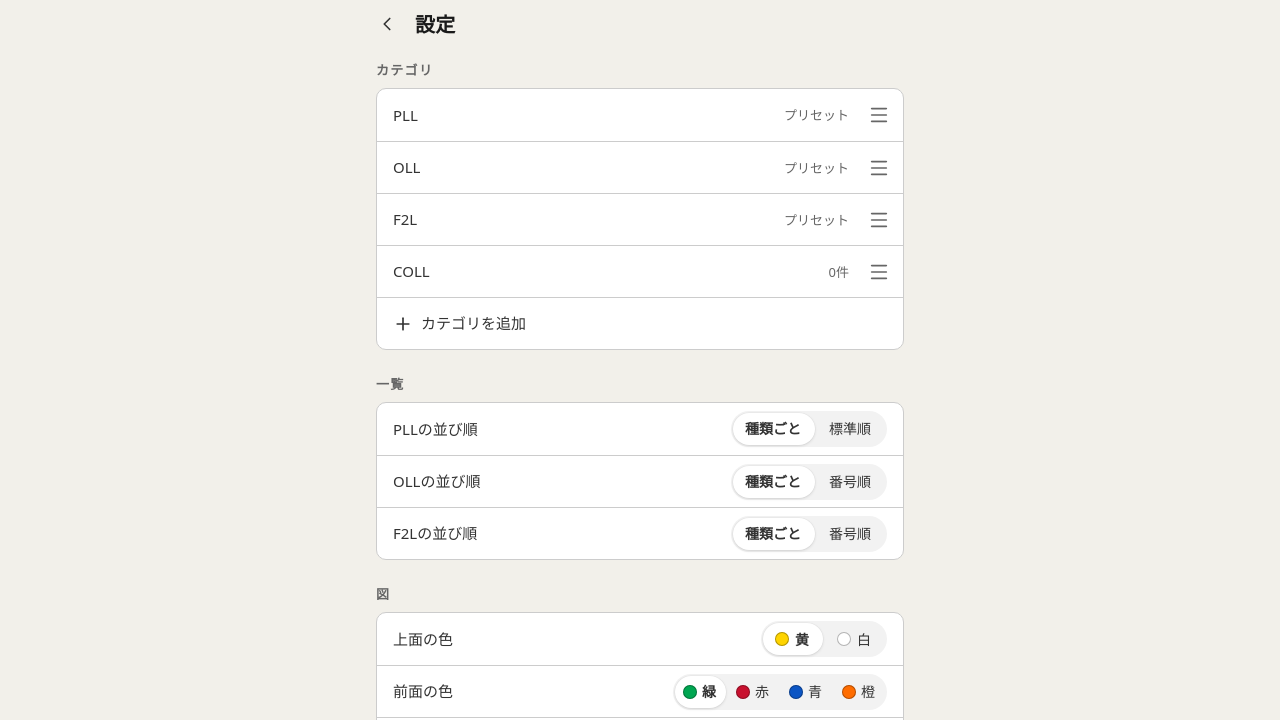
Test case: SettingsScreen › 自作のカテゴリの行を押すとシートが開き、名前を変えて保存できる
The image size is (1280, 720).
Click the button "COLL 0件" at (411, 271), box [393, 246, 849, 297]
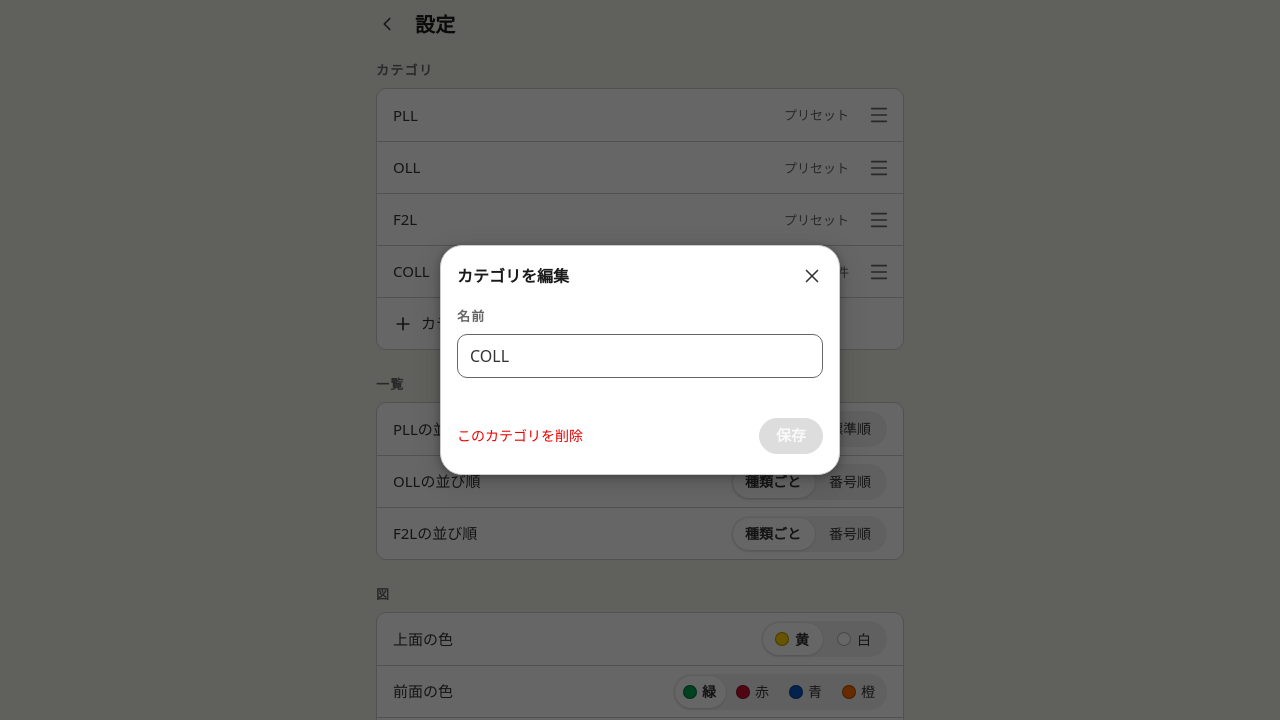
Expected: the field labelled "名前" holds "COLL"
Expected: the button "保存" is disabled, [759, 418, 823, 454]
Replace the text in the field labelled "名前" with "ZBLL" at (640, 356), box [457, 334, 823, 378]
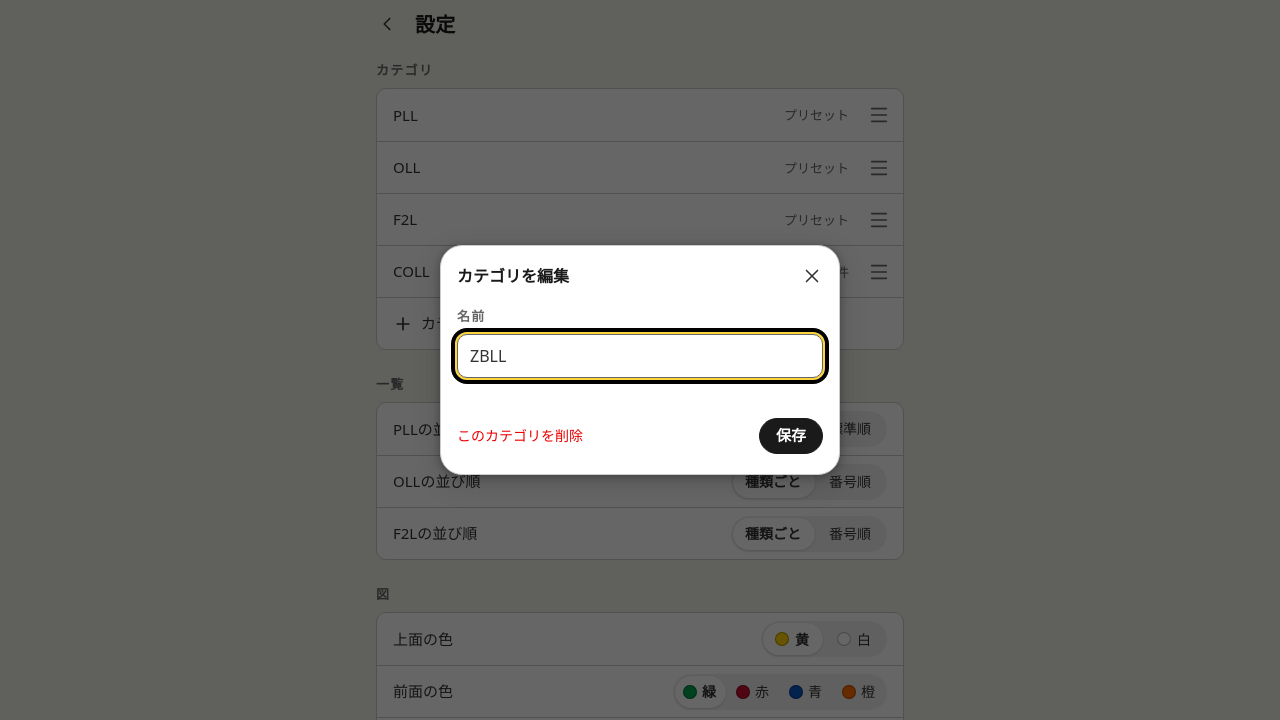
Click the button "保存" at (791, 436), box [759, 418, 823, 454]
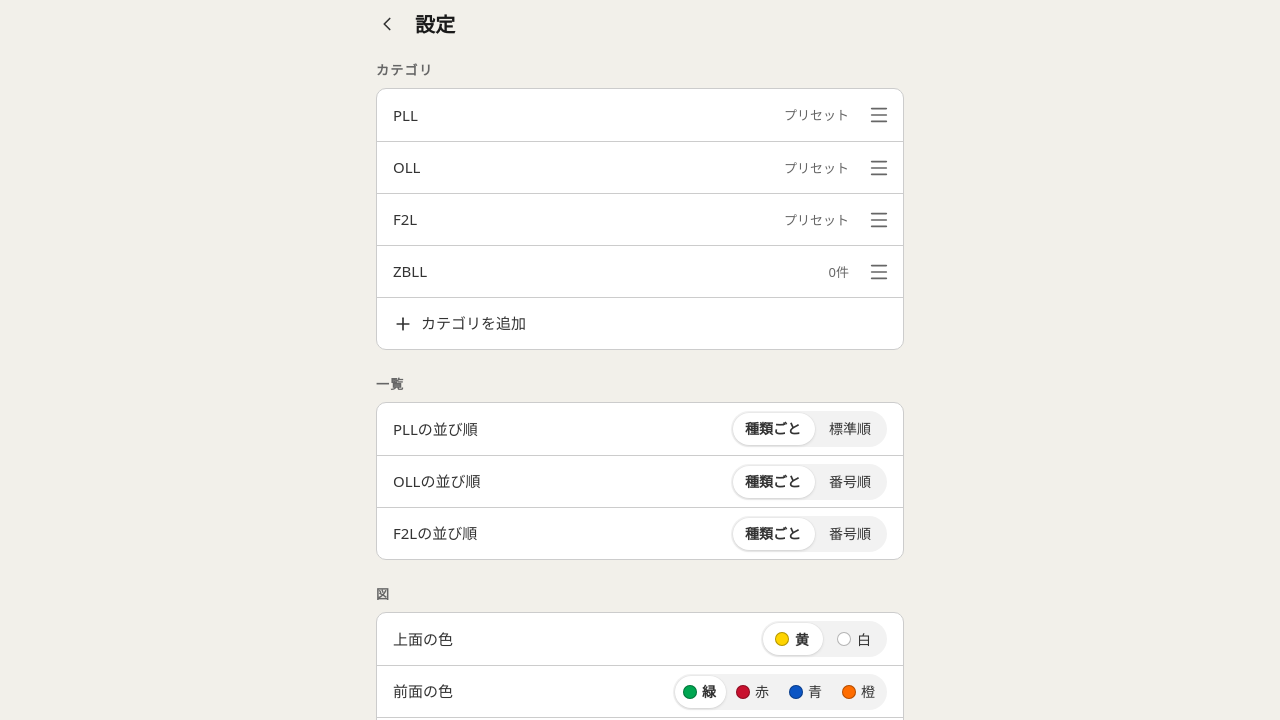
Expected: the dialog is gone
